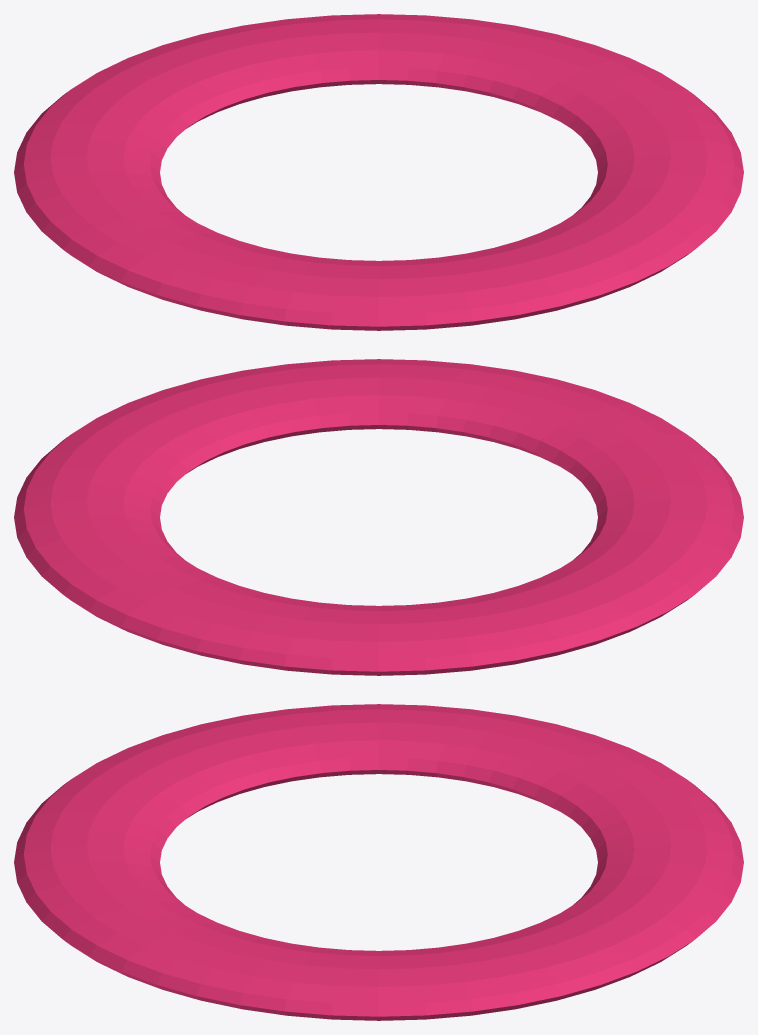
File: TicTacToe_O.fbx
3 views of the same model, one above another, from view 1: azimuth 30°, elevation 25°; view 2: azimuth 150°, elevation 25°; view 3: azimuth 270°, elevation 25° (orthographic).
Visible parts, largest first — view 1: O_Object; view 2: O_Object; view 3: O_Object.
Boxes of the visible parts, bbox=[...] form: O_Object: bbox=[14, 14, 743, 330]; O_Object: bbox=[14, 359, 743, 675]; O_Object: bbox=[14, 704, 743, 1020].
Bounding box in the file's own units: 1000 × 50 × 1000.
